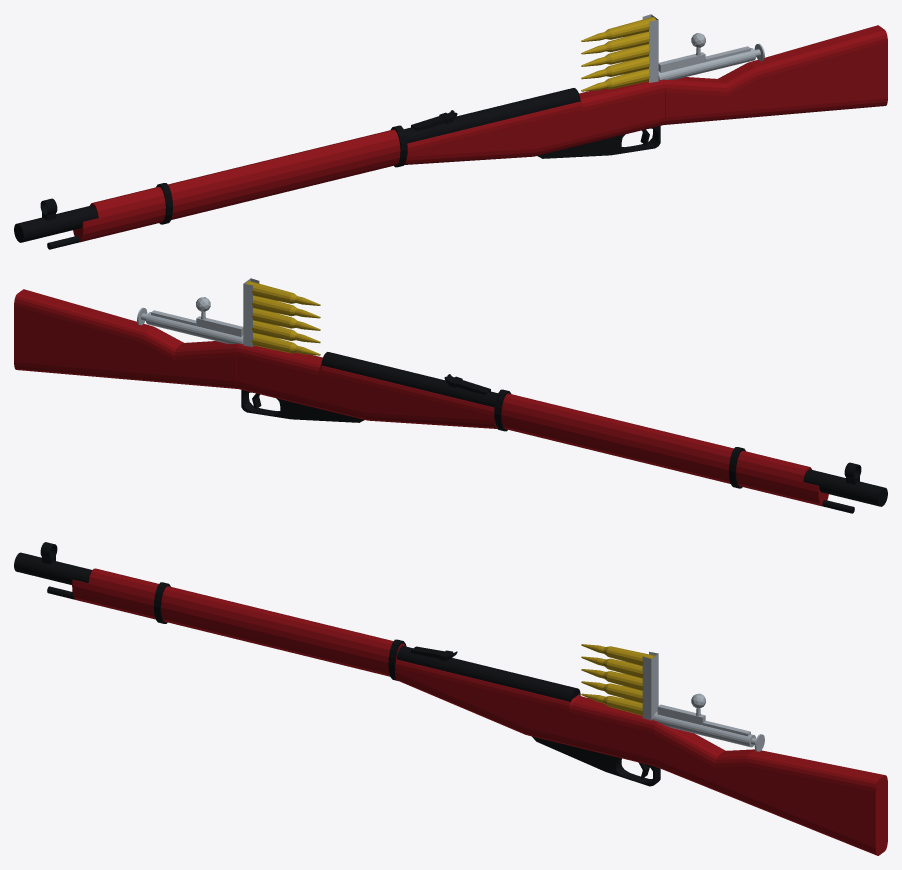
The model's file is mosin-nagant0040.obj.
3 views of the same model, one above another, from view 1: azimuth 30°, elevation 25°; view 2: azimuth 150°, elevation 25°; view 3: azimuth 330°, elevation 25° (orthographic).
Parts seen in each view (by area): view 1: stock, barrel, triggerGuard, bolt, bullet1, bullet5, bullet4, bullet3, bullet2, clip, boltLocker; view 2: stock, barrel, triggerGuard, bolt, bullet1, bullet5, bullet4, bullet3, bullet2, clip, boltLocker; view 3: stock, barrel, triggerGuard, bolt, clip, bullet1, bullet4.
Boxes of the visible parts, left/top/right/bottom form: stock: left=73, top=25, right=887, bottom=242; barrel: left=14, top=88, right=580, bottom=242; triggerGuard: left=537, top=126, right=660, bottom=158; bolt: left=658, top=48, right=755, bottom=80; bullet1: left=581, top=17, right=655, bottom=41; bullet5: left=581, top=69, right=649, bottom=91; bullet4: left=581, top=56, right=649, bottom=79; bullet3: left=581, top=44, right=649, bottom=66; bullet2: left=581, top=32, right=649, bottom=54; clip: left=642, top=14, right=658, bottom=82; boltLocker: left=658, top=52, right=705, bottom=72; stock: left=14, top=289, right=828, bottom=506; barrel: left=321, top=352, right=887, bottom=506; triggerGuard: left=241, top=390, right=364, bottom=422; bolt: left=146, top=312, right=243, bottom=344; bullet1: left=246, top=281, right=320, bottom=305; bullet5: left=252, top=333, right=320, bottom=355; bullet4: left=252, top=320, right=320, bottom=343; bullet3: left=252, top=308, right=320, bottom=330; bullet2: left=252, top=296, right=320, bottom=318; clip: left=243, top=278, right=259, bottom=346; boltLocker: left=196, top=316, right=243, bottom=336; stock: left=72, top=568, right=887, bottom=855; barrel: left=14, top=552, right=580, bottom=702; triggerGuard: left=532, top=736, right=660, bottom=786; bolt: left=653, top=711, right=755, bottom=747; clip: left=642, top=651, right=658, bottom=720; bullet1: left=581, top=644, right=655, bottom=666; bullet4: left=581, top=681, right=643, bottom=703.
Bounding box in the file's own units: 16.32 × 2.57 × 0.4228.
